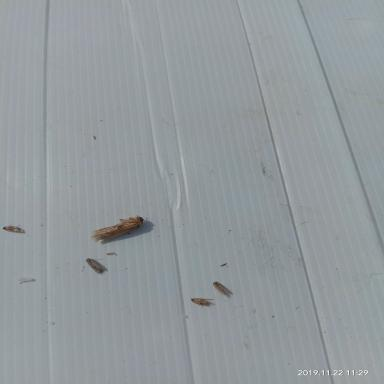abw: (82, 214, 150, 244)
pbw: (81, 256, 109, 280), (186, 291, 218, 310), (4, 218, 25, 238), (210, 279, 232, 298)
